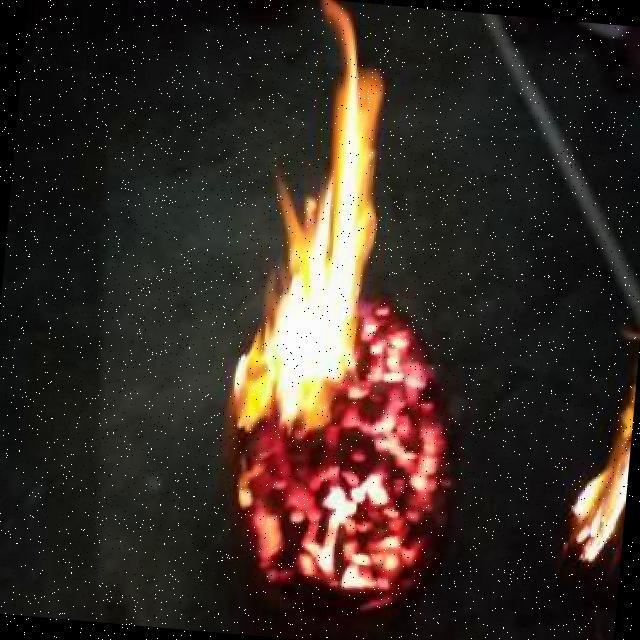Fire: (221, 8, 403, 439), (347, 281, 464, 621), (571, 348, 637, 579)
